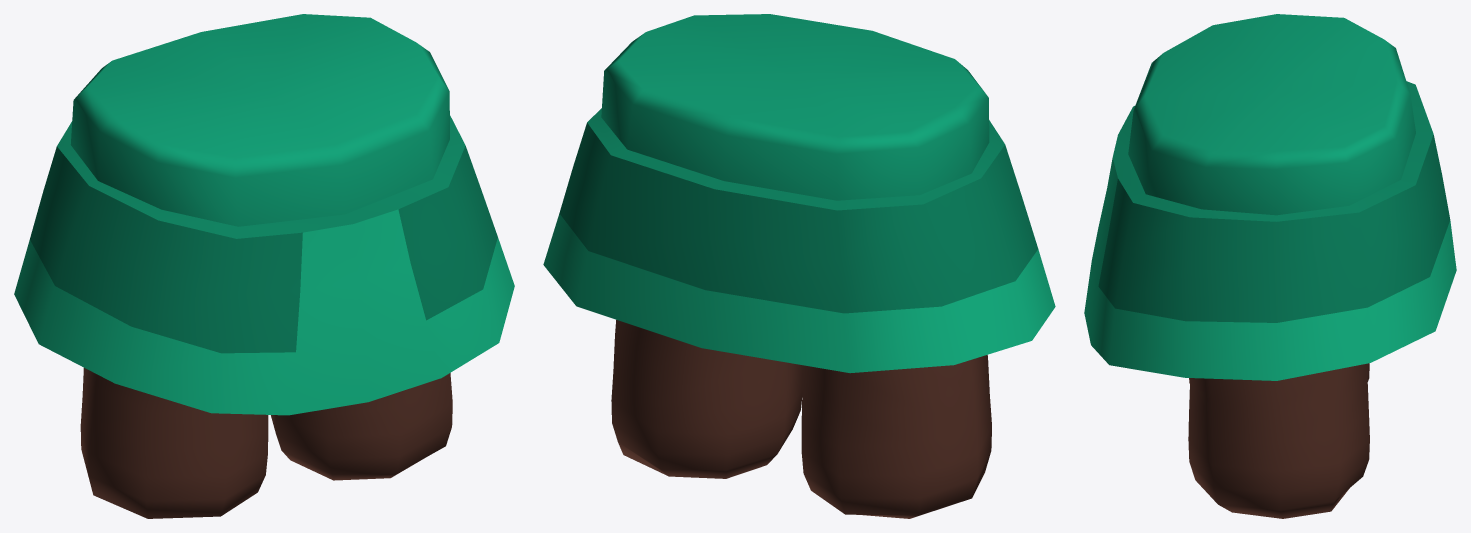
Rendered from Bottom_39.fbx.
3 views of the same model, side by side, from view 1: azimuth 30°, elevation 25°; view 2: azimuth 150°, elevation 25°; view 3: azimuth 270°, elevation 25° (orthographic). The views are drawn at different scales.
Parts seen in each view (by area): view 1: Bottom_39; view 2: Bottom_39; view 3: Bottom_39.
Boxes of the visible parts, box(x1,y1,x2,y2) form: Bottom_39: box(14, 14, 514, 518); Bottom_39: box(543, 14, 1055, 518); Bottom_39: box(1084, 14, 1456, 518).
Size of the model in its own units: 51.6 by 42.79 by 39.41.
